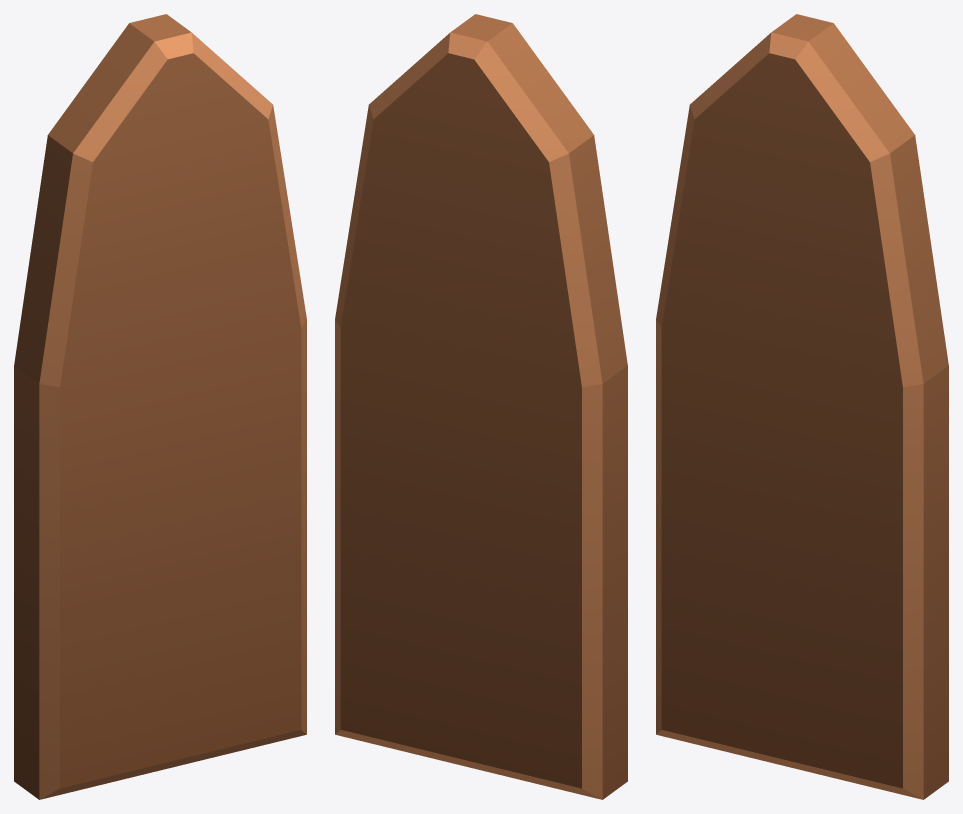
The model's file is mt_prop_fence01.fbx.
The picture shows the model from 3 angles, left to right: view 1: azimuth 30°, elevation 25°; view 2: azimuth 150°, elevation 25°; view 3: azimuth 330°, elevation 25°; orthographic projection.
Visible parts, largest first — view 1: prop_fence01; view 2: prop_fence01; view 3: prop_fence01.
Boxes of the visible parts, x1,y1,x2,y2 form: prop_fence01: (14,14,306,799); prop_fence01: (335,14,627,799); prop_fence01: (656,14,948,799).
Size of the model in its own units: 32.99 by 86.06 by 8.63.
